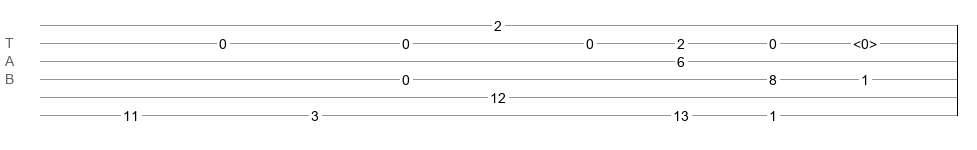0: (219, 36, 227, 46), (402, 36, 410, 46), (402, 72, 410, 82), (586, 36, 594, 46), (769, 36, 777, 46)
1: (769, 108, 777, 118), (861, 72, 869, 82)
11: (123, 108, 139, 118)
12: (490, 90, 506, 100)
13: (673, 108, 689, 118)
2: (494, 18, 502, 28), (677, 36, 685, 46)
3: (311, 108, 319, 118)
6: (677, 54, 685, 64)
8: (769, 72, 777, 82)
harmonic: (853, 36, 877, 46)
